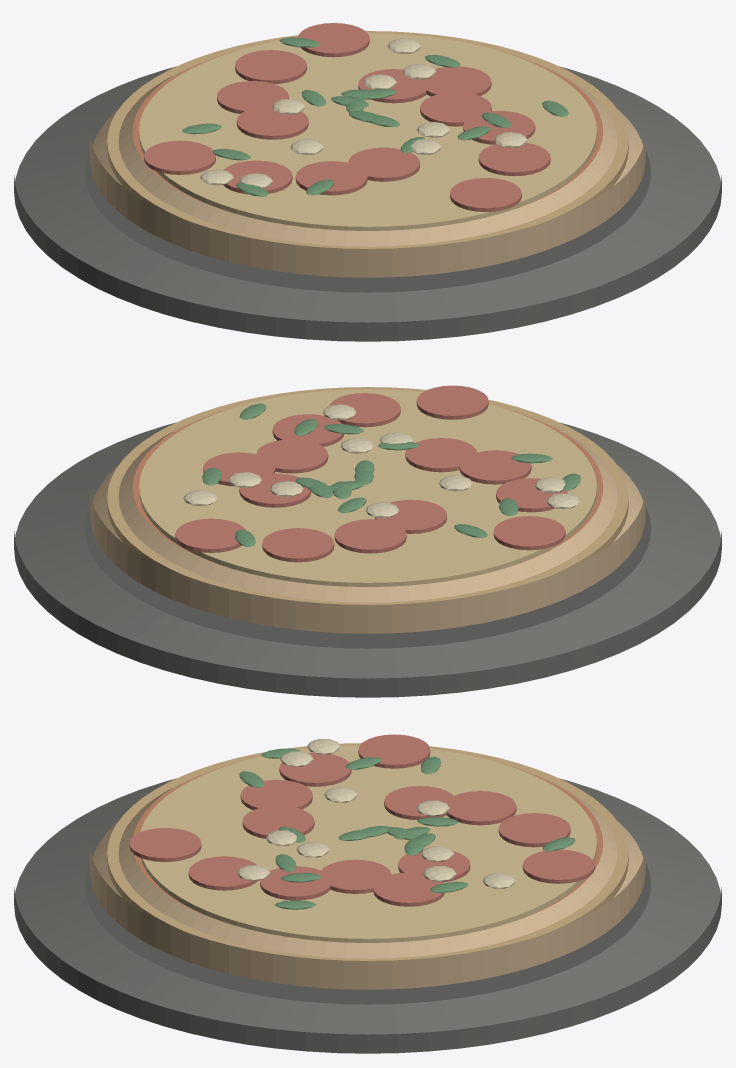
The model's file is pizza.glb.
3 views of the same model, one above another, from view 1: azimuth 30°, elevation 25°; view 2: azimuth 150°, elevation 25°; view 3: azimuth 270°, elevation 25° (orthographic).
Visible parts, largest first — view 1: world; view 2: world; view 3: world.
Part boxes in pixels (<box>): world: <box>14,23,721,341</box>; world: <box>14,385,721,697</box>; world: <box>14,734,721,1053</box>.
Bounding box in the file's own units: 0.334 × 0.046 × 0.334.
